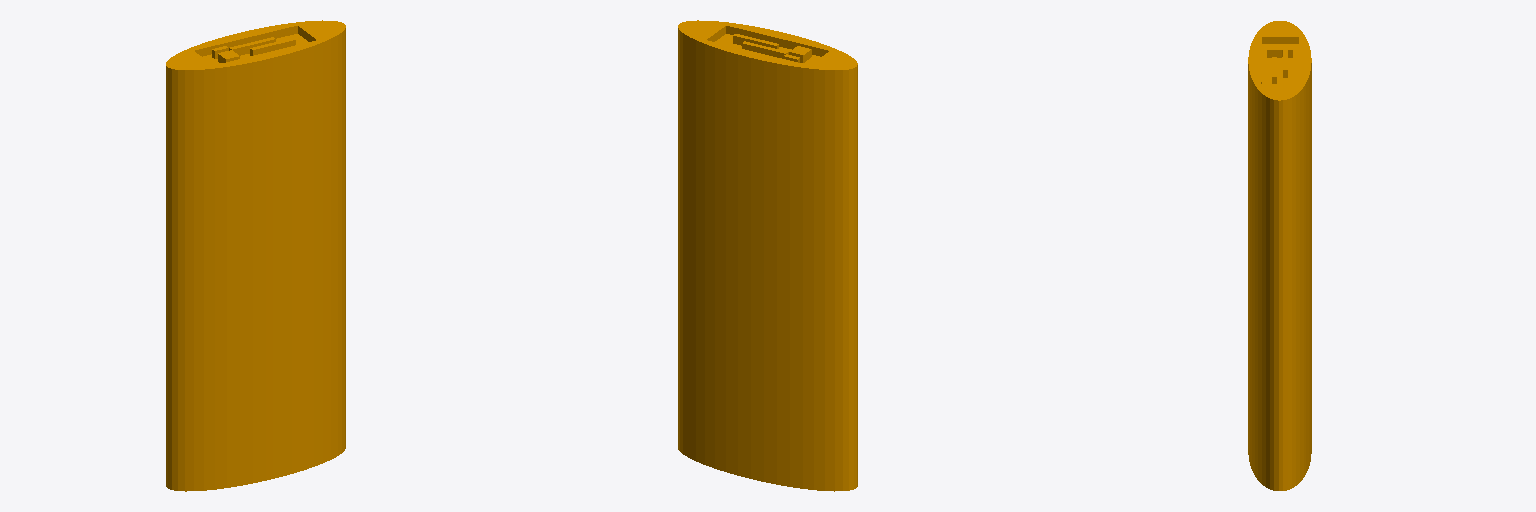
The robot description file, URDF, robot "20_r_circle":
<?xml version="1.0" ?>
<robot name="20_r_circle">

    <link name="20_r_circle">
        <visual>
            <origin rpy="1.5707963267948966 0 0" xyz="0 0 0"/>
            <geometry>
                <mesh filename="Shapes/20_r_circle.obj" scale="1.1546 1 0.385"/>
            </geometry>
        </visual>
        <collision>
            <origin rpy="1.5707963267948966 0 0" xyz="0 0 0"/>
            <geometry>
                <mesh filename="Shapes/20_r_circle.obj" scale="1.1546 1 0.385"/>
            </geometry>
        </collision>
        <inertial>
            <mass value="0.3"/>
            <inertia ixx="0.000029435425" ixy="0.0" ixz="0.0" iyy="0.000029435425" iyz="0.0" izz="0.00000725805"/>
        </inertial>
    </link>

</robot>

--- Render facts (derived) ---
Views: 3 orthographic renders of the robot side by side, from view 1: azimuth 30°, elevation 25°; view 2: azimuth 150°, elevation 25°; view 3: azimuth 270°, elevation 25°.
Model 20_r_circle with 1 links and 0 joints (none), rooted at 20_r_circle, posed every joint at zero.
Visible links, largest first — view 1: 20_r_circle; view 2: 20_r_circle; view 3: 20_r_circle.
Link boxes in pixels (x1,y1,x2,y2): 20_r_circle: [166, 20, 345, 491]; 20_r_circle: [678, 20, 857, 491]; 20_r_circle: [1248, 21, 1311, 490].
Bounding box of the posed robot: 0.0462 × 0.0154 × 0.105 m (x, y, z).
1 mesh visuals loaded from 1 distinct referenced files (1 OBJ).
